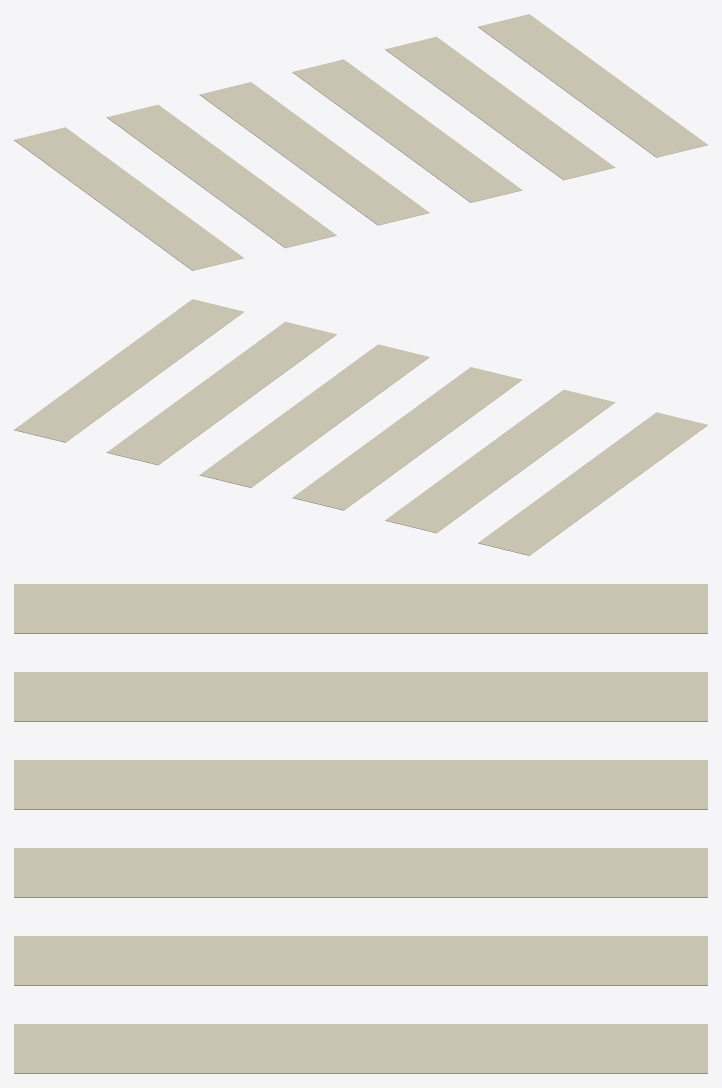
File: MS_RM_ZebraCrossing.glb
3 views of the same model, one above another, from view 1: azimuth 30°, elevation 25°; view 2: azimuth 150°, elevation 25°; view 3: azimuth 270°, elevation 25° (orthographic). The views are drawn at different scales.
Parts seen in each view (by area): view 1: _MeshInstance3D_98, _MeshInstance3D_101, _MeshInstance3D_97, _MeshInstance3D_99, _MeshInstance3D_100, _MeshInstance3D_102; view 2: _MeshInstance3D_98, _MeshInstance3D_101, _MeshInstance3D_97, _MeshInstance3D_99, _MeshInstance3D_100, _MeshInstance3D_102; view 3: _MeshInstance3D_97, _MeshInstance3D_98, _MeshInstance3D_99, _MeshInstance3D_100, _MeshInstance3D_101, _MeshInstance3D_102.
Part boxes in pixels (bbox=[...]): _MeshInstance3D_98: bbox=[106, 104, 336, 248]; _MeshInstance3D_101: bbox=[385, 36, 615, 180]; _MeshInstance3D_97: bbox=[14, 127, 243, 270]; _MeshInstance3D_99: bbox=[199, 82, 429, 225]; _MeshInstance3D_100: bbox=[292, 59, 522, 202]; _MeshInstance3D_102: bbox=[478, 14, 707, 157]; _MeshInstance3D_98: bbox=[385, 389, 615, 533]; _MeshInstance3D_101: bbox=[106, 321, 336, 465]; _MeshInstance3D_97: bbox=[478, 412, 707, 555]; _MeshInstance3D_99: bbox=[292, 367, 522, 510]; _MeshInstance3D_100: bbox=[199, 344, 429, 487]; _MeshInstance3D_102: bbox=[14, 299, 243, 442]; _MeshInstance3D_97: bbox=[14, 584, 707, 633]; _MeshInstance3D_98: bbox=[14, 672, 707, 721]; _MeshInstance3D_99: bbox=[14, 760, 707, 809]; _MeshInstance3D_100: bbox=[14, 848, 707, 897]; _MeshInstance3D_101: bbox=[14, 936, 707, 985]; _MeshInstance3D_102: bbox=[14, 1024, 707, 1073].
Size of the model in its own units: 5 by 0.004 by 3.
